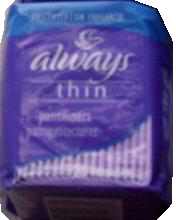grozi_82: (0, 0, 172, 219)
